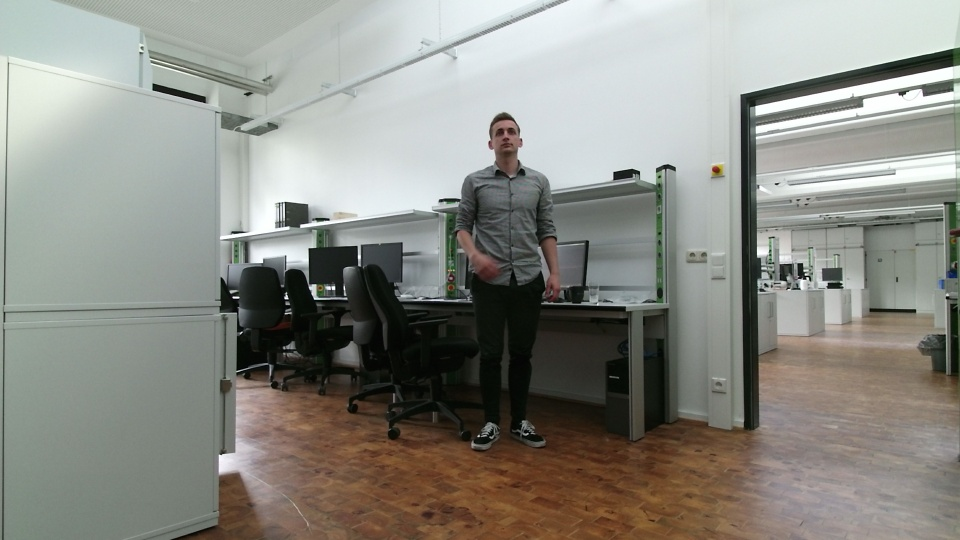Person: (448, 103, 564, 459)
